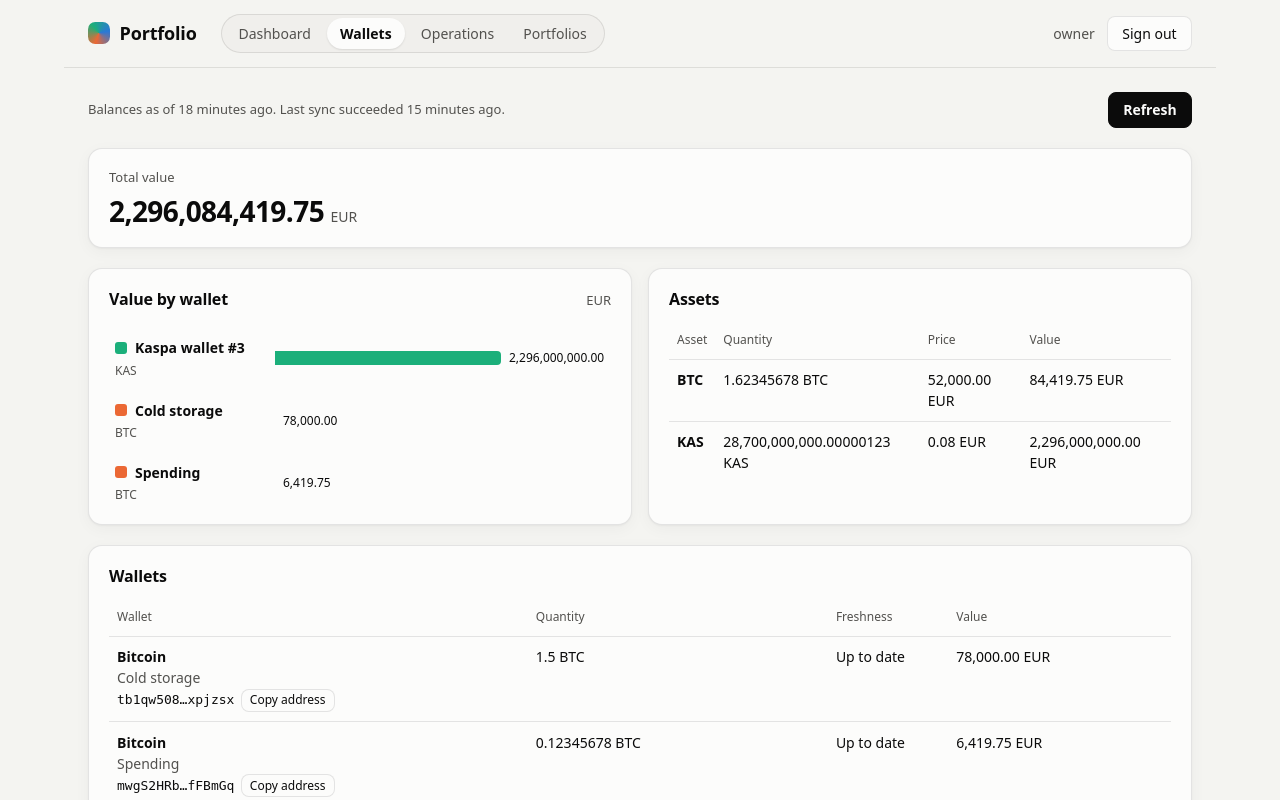
Test: WalletsPage balances: refresh › refresh posts a sync and re-reads the balances
Click the button "Refresh" at point(1150, 110), box [1108,92,1192,128]
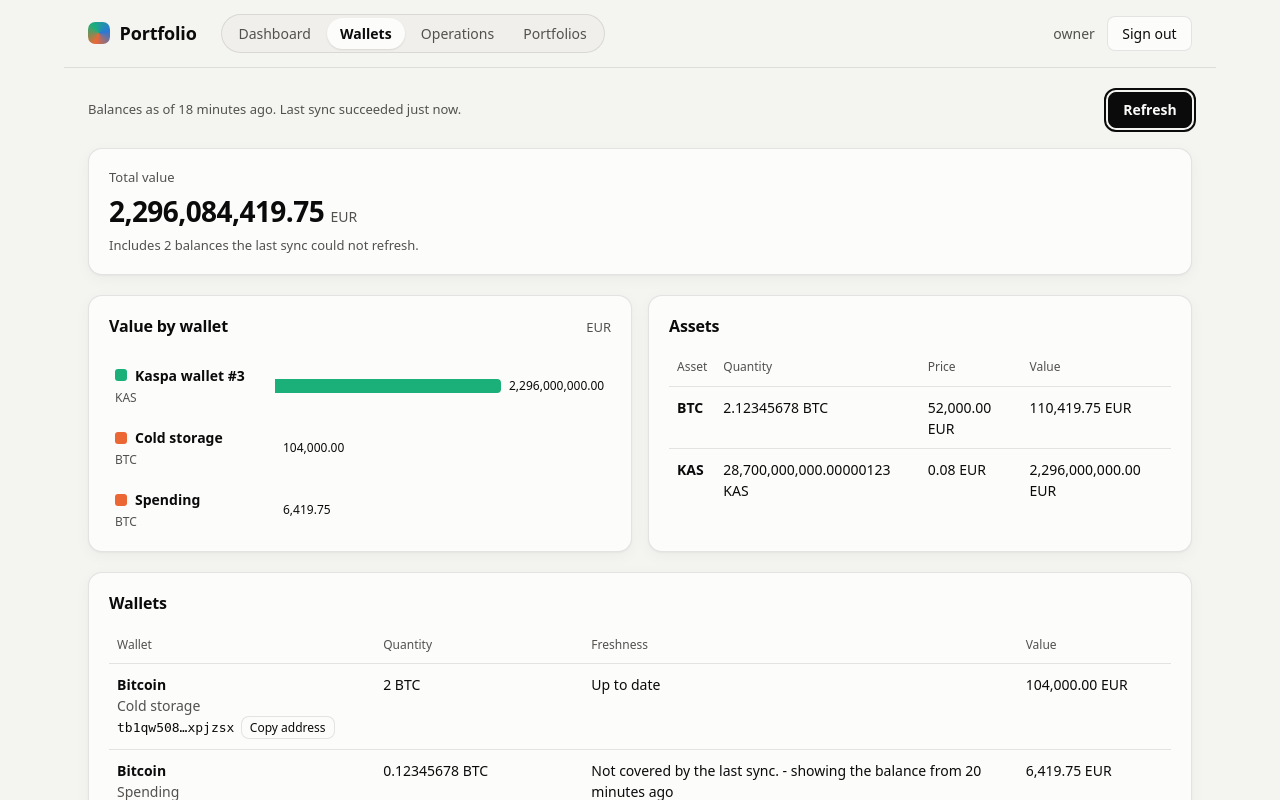
Expected: the text "Balances as of 18 minutes ago. Last sync succeeded just now." is shown, [88,100,461,120]
